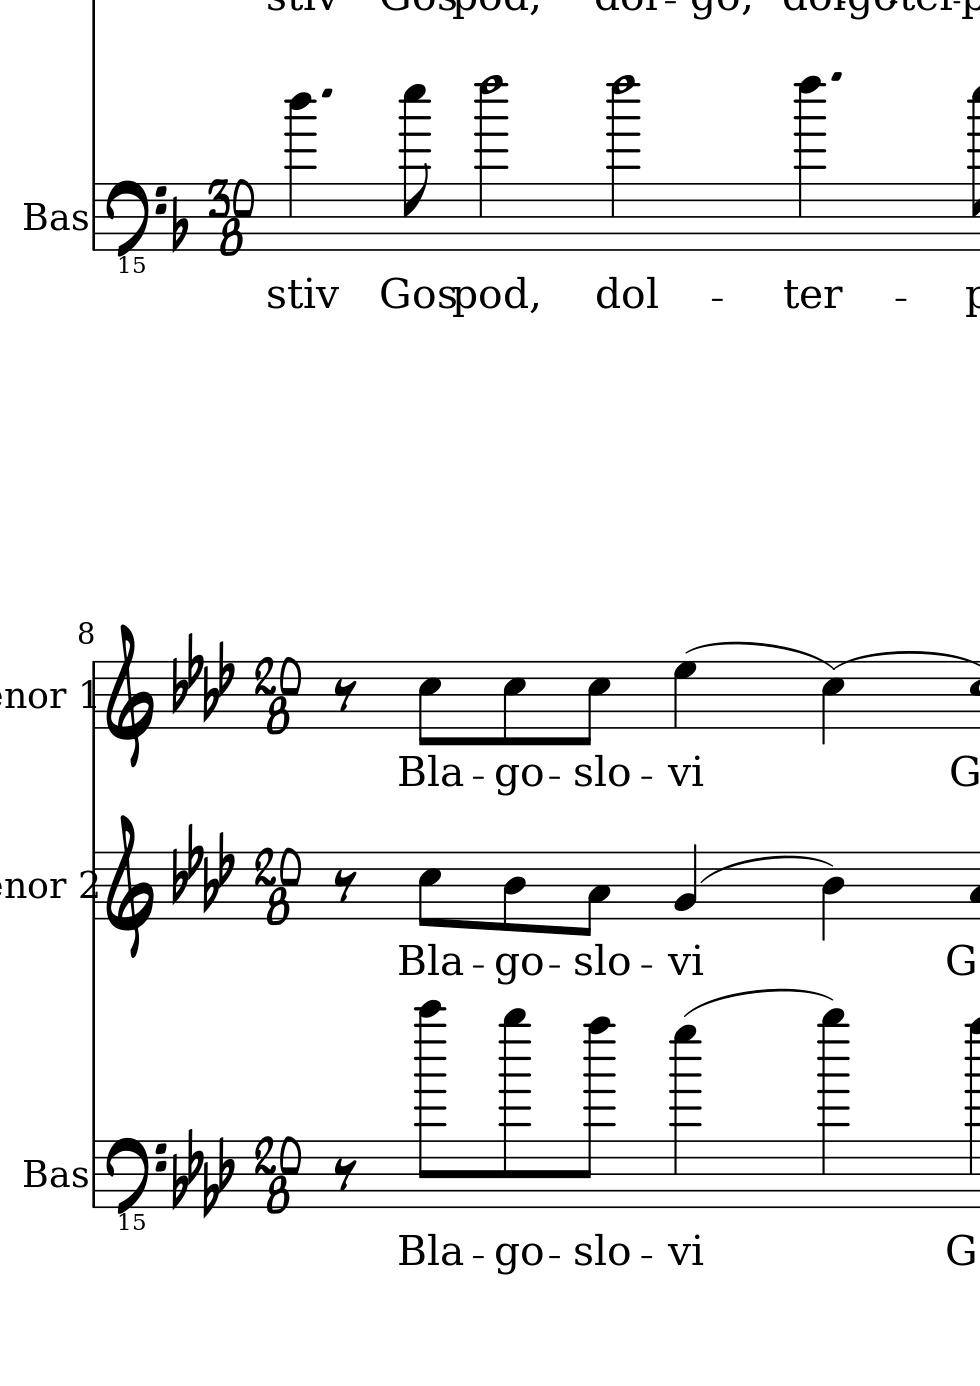0: (275, 843, 302, 885), (253, 1131, 280, 1175), (229, 176, 256, 216), (275, 656, 301, 695), (278, 1134, 301, 1174), (253, 844, 274, 888)
2: (253, 654, 276, 695)
3: (206, 173, 229, 218)
4_2: (672, 842, 698, 922)
4_4: (820, 850, 845, 941)
4_5: (819, 659, 846, 747)
4_7: (671, 660, 698, 731)
8: (218, 216, 244, 258), (266, 885, 290, 928), (267, 696, 292, 736), (266, 1173, 291, 1213), (76, 619, 95, 646)
8_3: (577, 850, 611, 936)
8_4: (500, 850, 527, 934)
8_5: (578, 659, 611, 747), (415, 659, 442, 748), (500, 660, 526, 748), (416, 850, 442, 929)
A_F: (172, 821, 237, 914), (171, 1127, 234, 1220), (172, 630, 234, 723)
Bass: (20, 199, 90, 234), (20, 1156, 91, 1190)
Fclef: (104, 177, 165, 258), (107, 1134, 168, 1215)
Flat: (170, 193, 190, 255)
Gclef: (104, 622, 155, 766), (105, 814, 154, 960)
Rests8: (331, 677, 357, 713), (330, 1157, 357, 1191), (331, 869, 357, 903)
Single_barline: (85, 850, 102, 922), (87, 183, 101, 251), (88, 1140, 101, 1208), (88, 660, 100, 730)
Slur: (686, 641, 834, 669), (683, 989, 834, 1016), (701, 855, 837, 882), (834, 649, 980, 674)
TimeSig: (257, 1135, 307, 1212), (253, 657, 303, 734), (256, 846, 305, 923), (206, 175, 255, 252)
dot: (827, 68, 844, 85), (318, 87, 335, 102)
